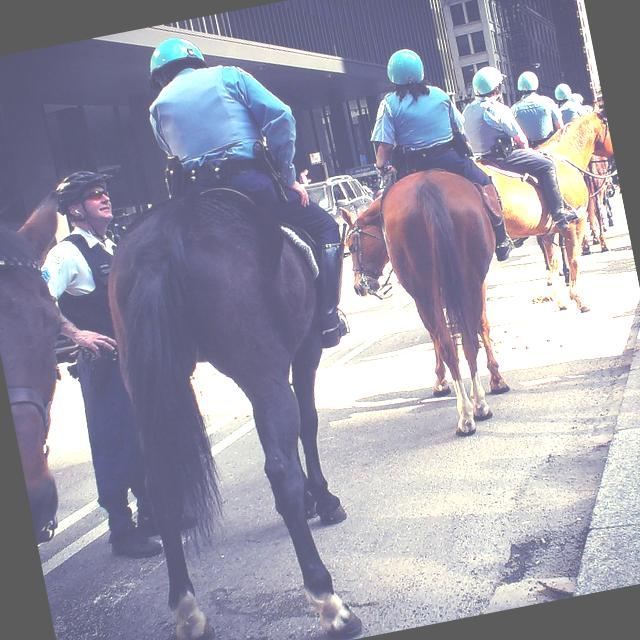Vehicle: (304, 169, 382, 258)
